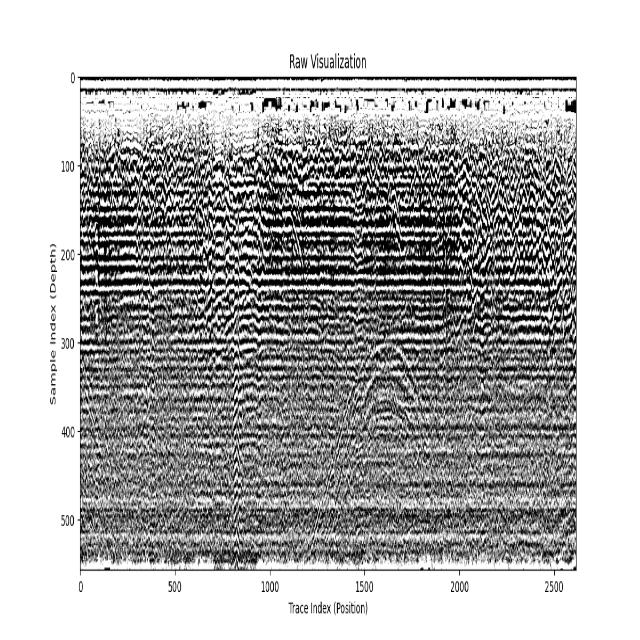anomaly: (304, 348, 446, 566)
